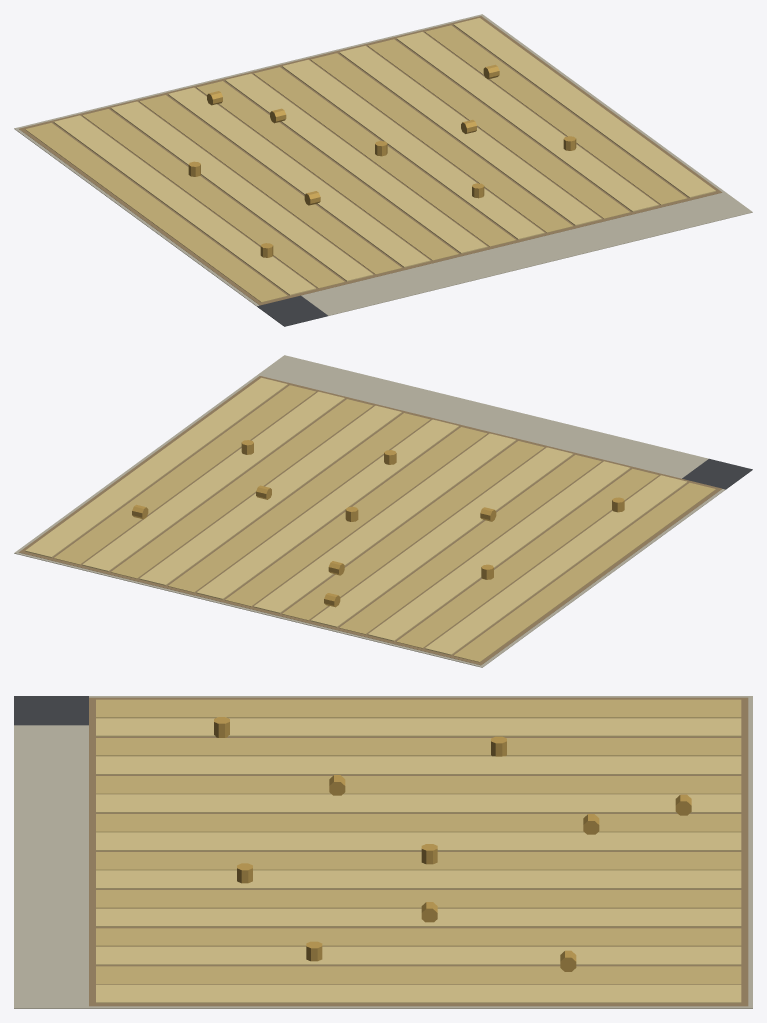
The model's file is site_field_cut.glb.
The picture shows the model from 3 angles, top to bottom: view 1: azimuth 30°, elevation 25°; view 2: azimuth 150°, elevation 25°; view 3: azimuth 270°, elevation 25°; orthographic projection. The views are drawn at different scales.
Visible parts, largest first — view 1: site_field_cut; view 2: site_field_cut; view 3: site_field_cut.
Part boxes in pixels (<box>): site_field_cut: <box>14,14,752,326</box>; site_field_cut: <box>14,355,752,667</box>; site_field_cut: <box>14,696,752,1008</box>.
Bounding box in the file's own units: 64 × 1.5 × 64.
